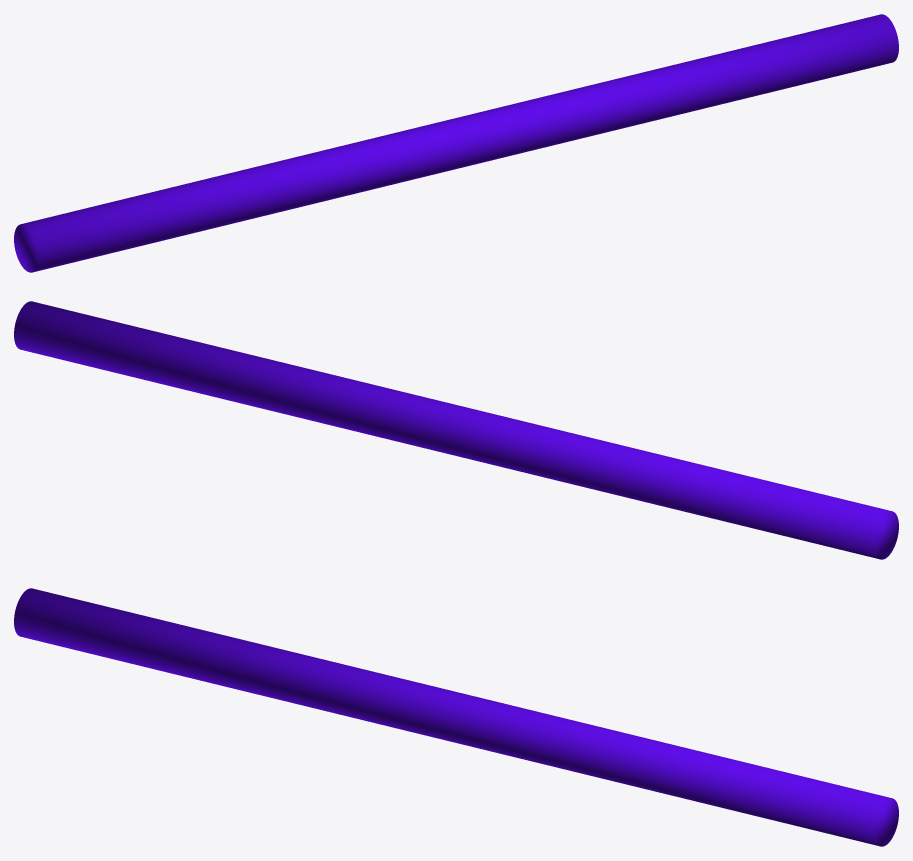
3 views of the same model, one above another, from view 1: azimuth 30°, elevation 25°; view 2: azimuth 150°, elevation 25°; view 3: azimuth 330°, elevation 25° (orthographic).
Parts seen in each view (by area): view 1: Тонкая труба; view 2: Тонкая труба; view 3: Тонкая труба.
Boxes of the visible parts, box(x1,y1,x2,y2) form: Тонкая труба: box(14, 14, 898, 272); Тонкая труба: box(14, 301, 898, 559); Тонкая труба: box(14, 588, 898, 846).
Size of the model in its own units: 2 by 0.1 by 0.1.
